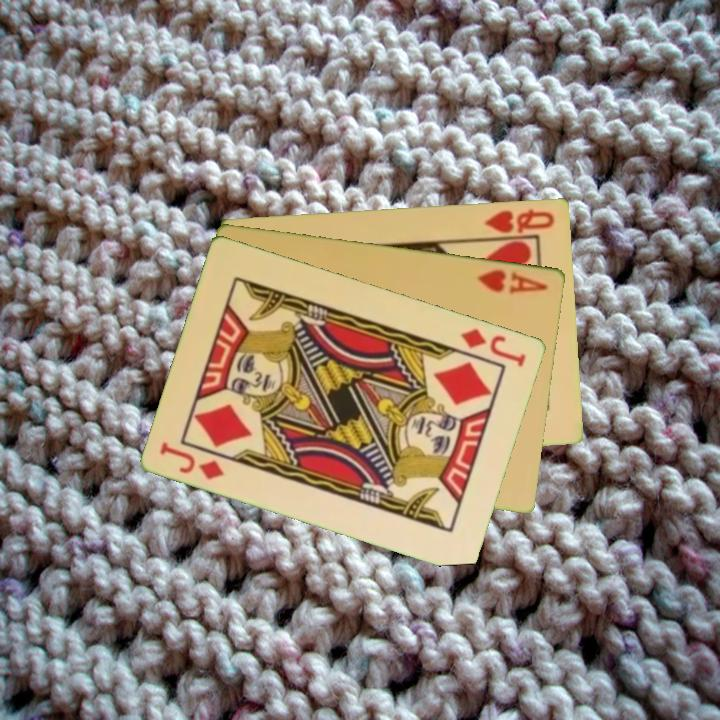Ah: (474, 265, 551, 297)
Jd: (457, 324, 530, 369), (156, 437, 228, 482)
Qh: (477, 205, 558, 240)
